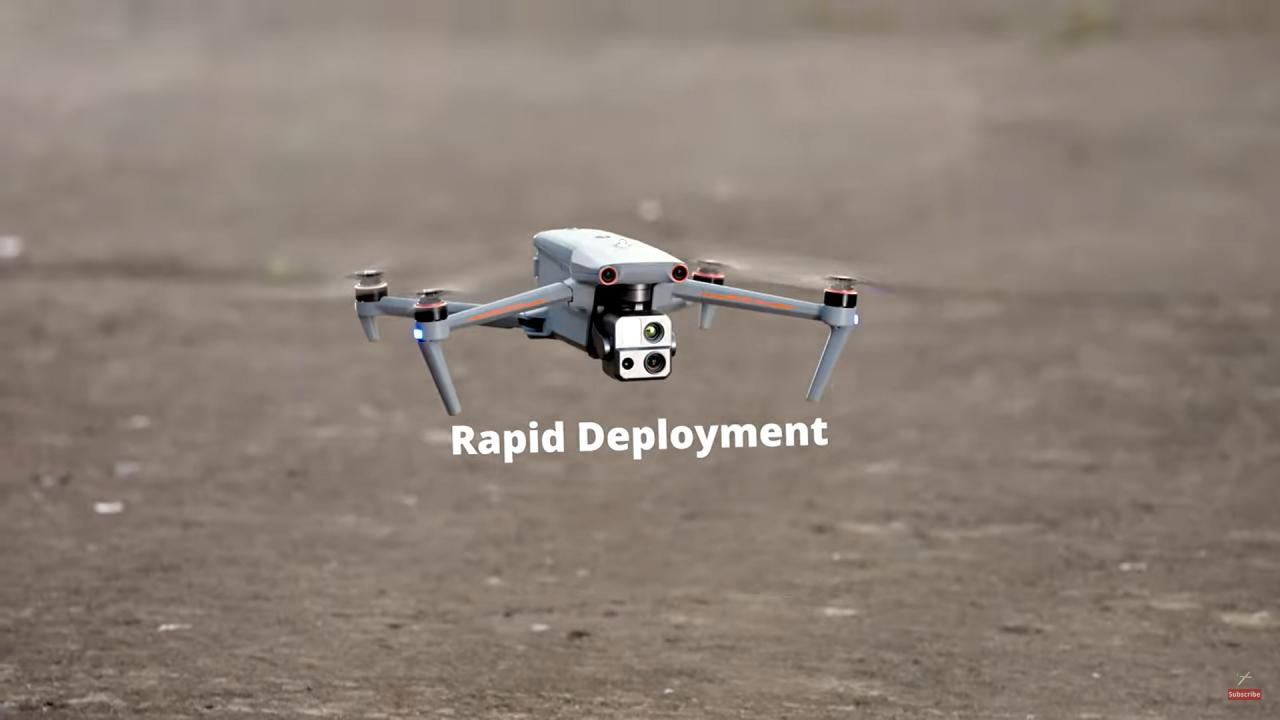Drone: (297, 195, 982, 422)
